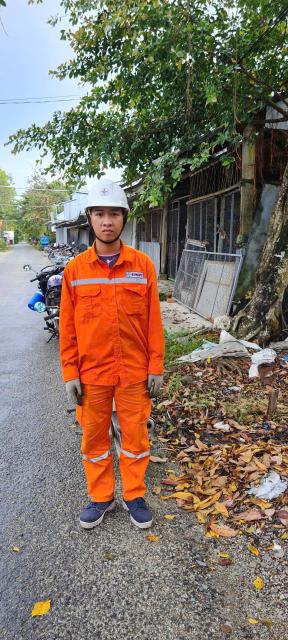gloves: (136, 364, 170, 402), (61, 374, 88, 408)
helmet: (74, 174, 153, 223)
shoes: (62, 487, 120, 531), (119, 487, 163, 533)
